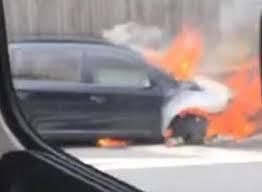fire: (147, 12, 258, 152), (89, 132, 135, 151)
